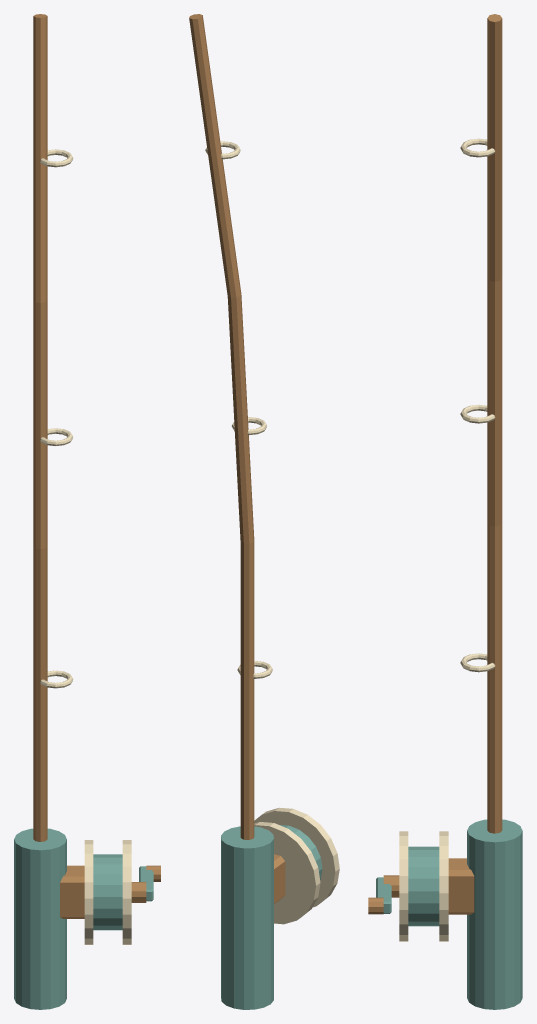
3 renders of one model, left to right at view 1: azimuth 90°, elevation 25°; view 2: azimuth 150°, elevation 25°; view 3: azimuth 270°, elevation 25°, orthographic. The views are drawn at different scales.
Parts seen in each view (by area): view 1: fishing-rod-reel-01; view 2: fishing-rod-reel-01; view 3: fishing-rod-reel-01.
Boxes of the visible parts, left/top/right/bottom form: fishing-rod-reel-01: left=14, top=14, right=160, bottom=1009; fishing-rod-reel-01: left=189, top=14, right=339, bottom=1009; fishing-rod-reel-01: left=368, top=14, right=522, bottom=1009.
Size of the model in its own units: 0.2019 by 1.8 by 0.25.
